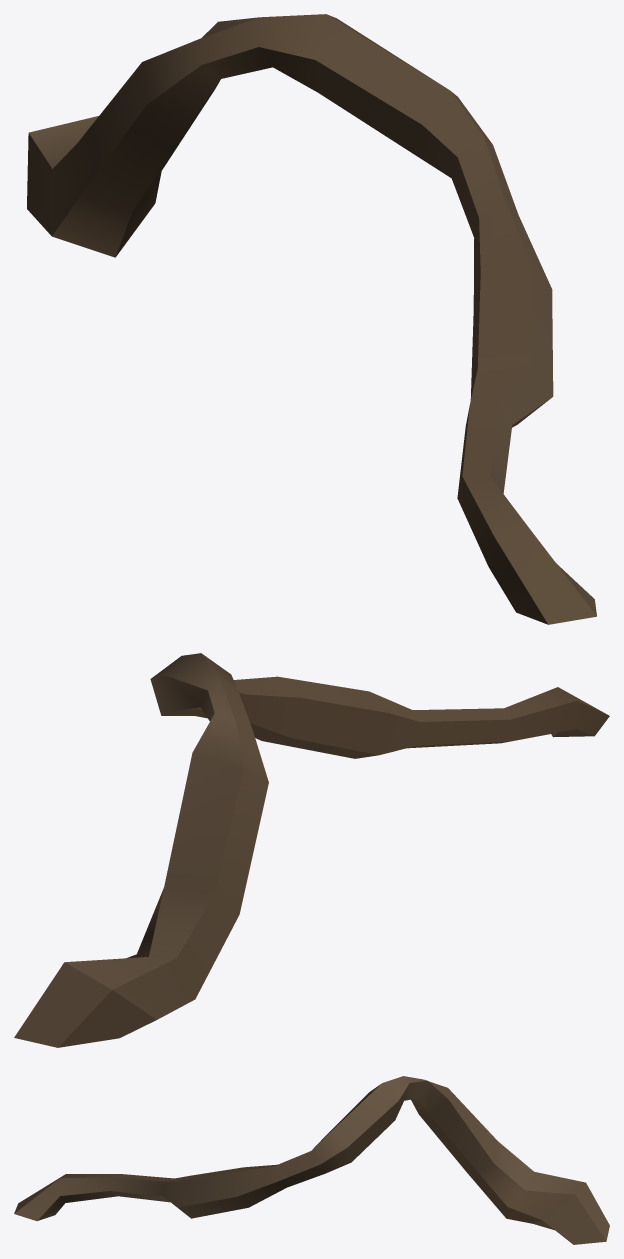
Rendered from SF_Env_GiantRoot_01.fbx.
The picture shows the model from 3 angles, top to bottom: view 1: azimuth 30°, elevation 25°; view 2: azimuth 150°, elevation 25°; view 3: azimuth 270°, elevation 25°; orthographic projection. The views are drawn at different scales.
Visible parts, largest first — view 1: SF_Env_GiantRoot_01; view 2: SF_Env_GiantRoot_01; view 3: SF_Env_GiantRoot_01.
Boxes of the visible parts, <box> form: SF_Env_GiantRoot_01: <box>27,14,596,624</box>; SF_Env_GiantRoot_01: <box>14,653,609,1047</box>; SF_Env_GiantRoot_01: <box>14,1076,609,1244</box>.
Size of the model in its own units: 9.43 by 11.15 by 37.99.
